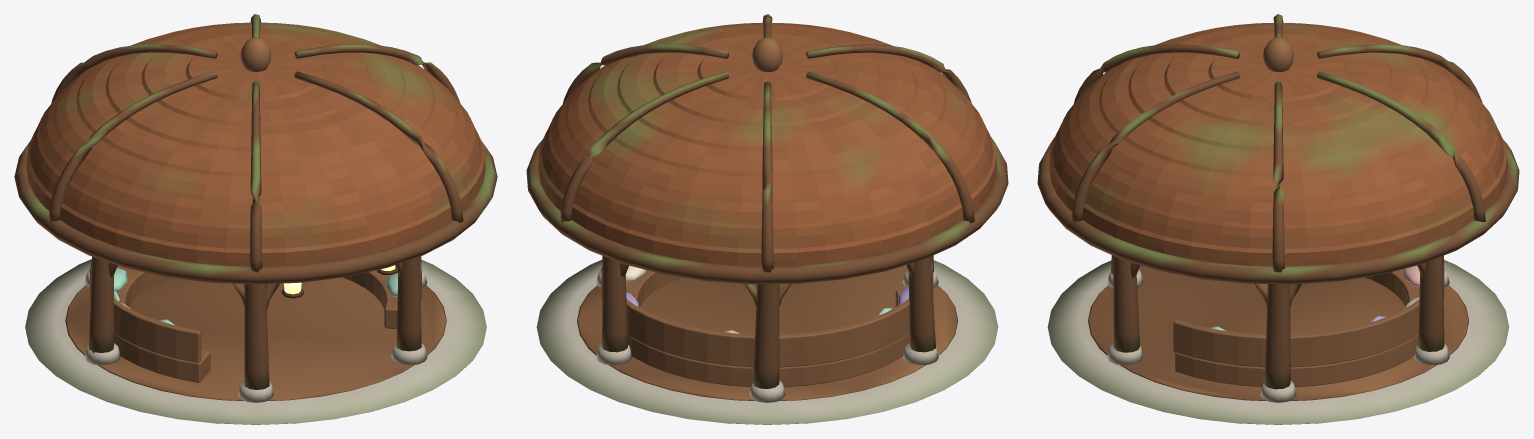
The model's file is Kit_Calm_Pavilion_01.glb.
3 renders of one model, left to right at view 1: azimuth 30°, elevation 25°; view 2: azimuth 150°, elevation 25°; view 3: azimuth 270°, elevation 25°, orthographic.
Parts seen in each view (by area): view 1: EX_Pavilion_Roof, EX_Pavilion_Wood, EX_Pavilion_Stone, EX_Pavilion_Fabric; view 2: EX_Pavilion_Roof, EX_Pavilion_Wood, EX_Pavilion_Stone, EX_Pavilion_Fabric; view 3: EX_Pavilion_Roof, EX_Pavilion_Wood, EX_Pavilion_Stone.
Boxes of the visible parts, bbox=[...] form: EX_Pavilion_Roof: bbox=[14, 14, 497, 284]; EX_Pavilion_Wood: bbox=[65, 256, 446, 400]; EX_Pavilion_Stone: bbox=[25, 259, 486, 424]; EX_Pavilion_Fabric: bbox=[114, 268, 397, 325]; EX_Pavilion_Roof: bbox=[526, 14, 1008, 284]; EX_Pavilion_Wood: bbox=[577, 255, 957, 400]; EX_Pavilion_Stone: bbox=[536, 260, 998, 424]; EX_Pavilion_Fabric: bbox=[625, 265, 908, 333]; EX_Pavilion_Roof: bbox=[1037, 14, 1519, 284]; EX_Pavilion_Wood: bbox=[1088, 255, 1468, 400]; EX_Pavilion_Stone: bbox=[1047, 260, 1509, 424].
Size of what is drawn, in the model's own units: 8.72 by 5.77 by 8.72.
